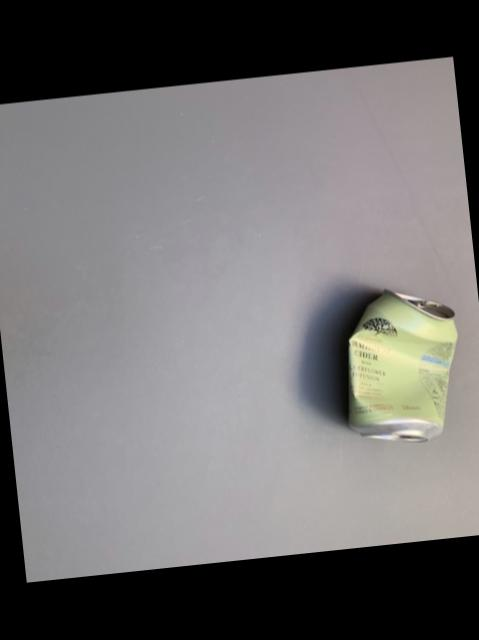metal: (348, 290, 457, 441)
